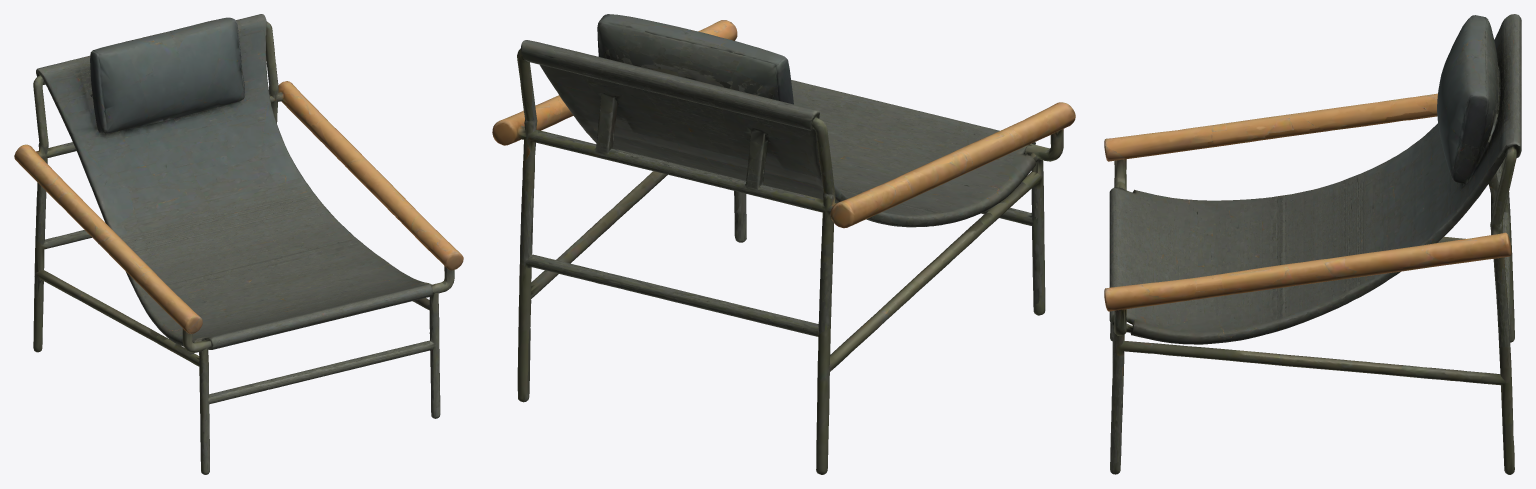
Rendered from sicab.glb.
The picture shows the model from 3 angles, left to right: view 1: azimuth 30°, elevation 25°; view 2: azimuth 150°, elevation 25°; view 3: azimuth 270°, elevation 25°; orthographic projection. The views are drawn at different scales.
Visible parts, largest first — view 1: tmptf97fidtobj; view 2: tmptf97fidtobj; view 3: tmptf97fidtobj.
Boxes of the visible parts, x1,y1,x2,y2 form: tmptf97fidtobj: [14, 14, 463, 474]; tmptf97fidtobj: [492, 14, 1075, 474]; tmptf97fidtobj: [1104, 14, 1521, 474].
Bounding box in the file's own units: 0.9085 × 0.935 × 1.
1 material, 1 textured.
